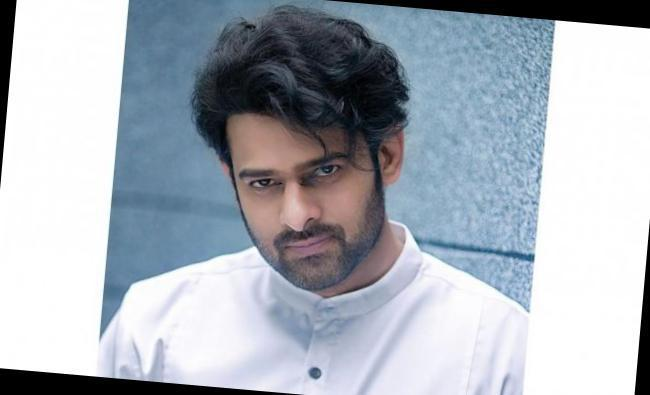Sober: (233, 111, 373, 281)
